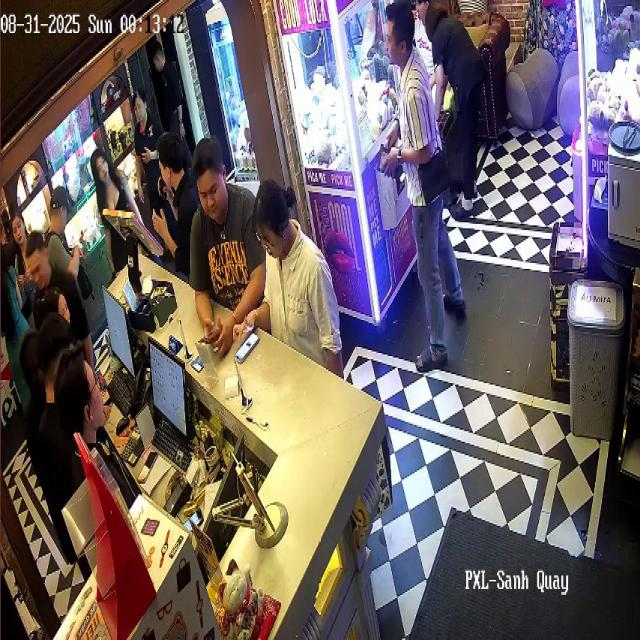khach: (370, 4, 470, 384), (248, 180, 356, 379), (189, 139, 273, 356), (2, 246, 35, 428), (47, 168, 87, 304), (85, 139, 138, 230), (10, 206, 34, 280)
nhan vien: (424, 0, 493, 223), (31, 232, 103, 441), (59, 356, 114, 498), (149, 44, 199, 137), (44, 318, 64, 490), (128, 78, 166, 166), (18, 326, 42, 455)
